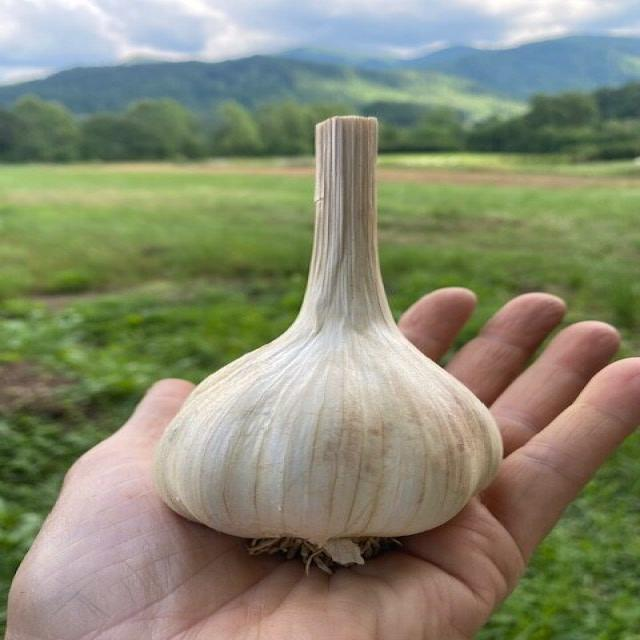garlic: (140, 319, 512, 557)
